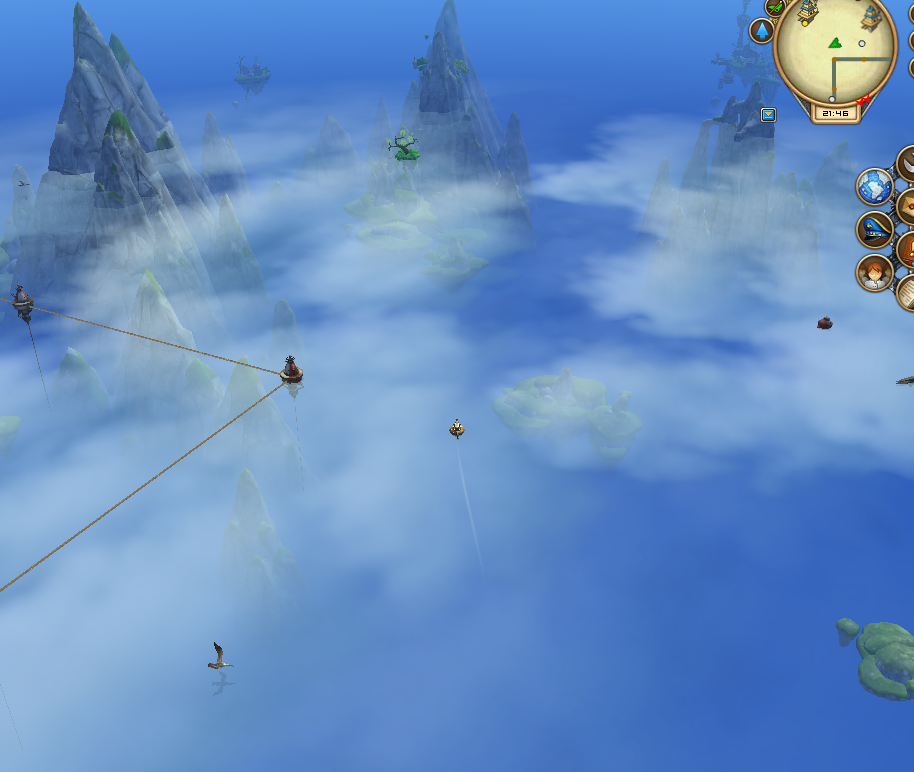dandelion-full: (384, 125, 423, 168)
